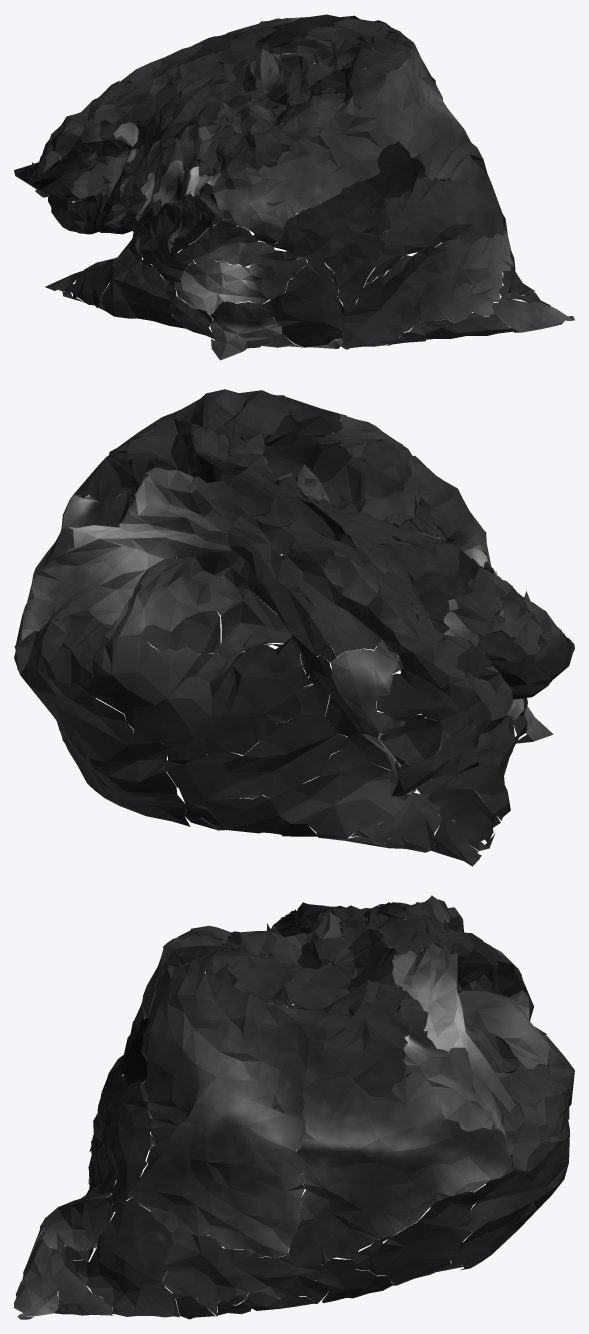
Rendered from trash.fbx.
3 views of the same model, one above another, from view 1: azimuth 30°, elevation 25°; view 2: azimuth 150°, elevation 25°; view 3: azimuth 270°, elevation 25° (orthographic). The views are drawn at different scales.
Visible parts, largest first — view 1: trash; view 2: trash; view 3: trash.
Boxes of the visible parts, <box> form: trash: <box>14,14,574,360</box>; trash: <box>14,389,574,866</box>; trash: <box>14,895,574,1319</box>.
Bounding box in the file's own units: 537 × 311 × 535.
